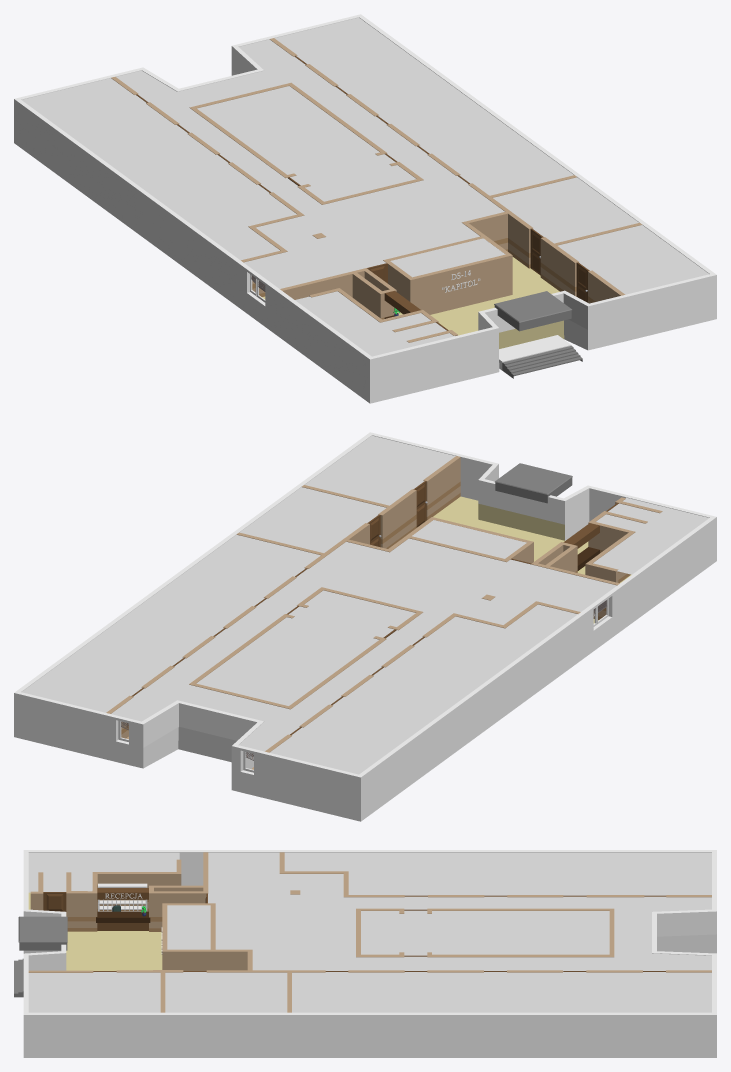
File: LOBBY.fbx
3 renders of one model, top to bottom at view 1: azimuth 30°, elevation 25°; view 2: azimuth 150°, elevation 25°; view 3: azimuth 270°, elevation 25°, orthographic. The views are drawn at different scales.
Visible parts, largest first — view 1: LOBBY, FogPlanes.014, FogPlanes.009, FogPlanes.010, LOBBY_Layout, FogPlanes.004, FogPlanes.007, FogPlanes.008, FogPlanes.006, Entrance, FogPlanes.005; view 2: LOBBY, FogPlanes.014, FogPlanes.009, FogPlanes.010, LOBBY_Layout, FogPlanes.004, FogPlanes.007, FogPlanes.008, FogPlanes.006, FogPlanes.005, Entrance, LOBBY_Layout.001; view 3: LOBBY, FogPlanes.014, FogPlanes.009, FogPlanes.010, LOBBY_Layout, FogPlanes.004, FogPlanes.007, FogPlanes.008, FogPlanes.006, Entrance, FogPlanes.005, LOBBY_Layout.001 (+2 smaller).
Part boxes in pixels (x1,y1,x2,y2): LOBBY: (14,14,716,403); FogPlanes.014: (116,39,504,288); FogPlanes.009: (274,17,573,195); FogPlanes.010: (22,78,296,260); LOBBY_Layout: (111,38,642,342); FogPlanes.004: (197,86,416,201); FogPlanes.007: (557,225,709,294); FogPlanes.008: (493,177,638,243); FogPlanes.006: (295,291,455,356); Entrance: (494,291,582,378); FogPlanes.005: (390,238,505,277); LOBBY: (14,432,716,821); FogPlanes.014: (111,538,616,751); FogPlanes.009: (21,534,320,712); FogPlanes.010: (269,604,577,774); LOBBY_Layout: (106,456,662,769); FogPlanes.004: (196,590,415,705); FogPlanes.007: (305,435,455,505); FogPlanes.008: (240,487,386,552); FogPlanes.006: (593,497,708,574); FogPlanes.005: (412,520,526,558); Entrance: (495,463,572,503); LOBBY_Layout.001: (563,523,599,570); LOBBY: (23,850,716,1057); FogPlanes.014: (208,852,711,971); FogPlanes.009: (292,972,711,1012); FogPlanes.010: (284,852,711,895); LOBBY_Layout: (28,852,711,1012); FogPlanes.004: (361,910,609,955); FogPlanes.007: (28,972,160,1012); FogPlanes.008: (165,972,287,1012); FogPlanes.006: (28,852,179,892); Entrance: (14,916,67,997); FogPlanes.005: (167,905,210,949); LOBBY_Layout.001: (96,888,150,930).
Size of the model in its own units: 2137 by 314 by 3852.
